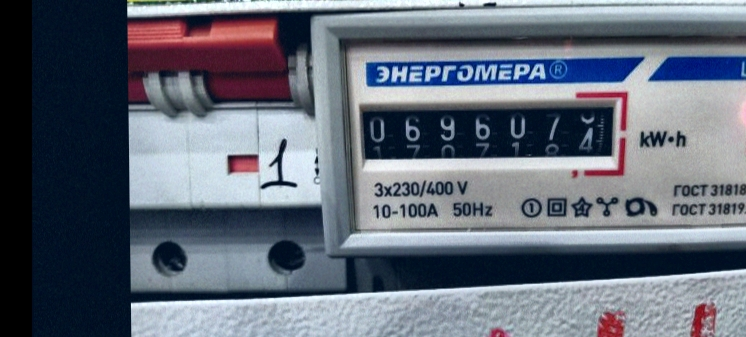0: (366, 113, 387, 144), (508, 111, 527, 140)
4: (575, 125, 595, 154)
6: (472, 111, 492, 142), (402, 113, 421, 142)
7: (543, 109, 561, 140)
9: (437, 113, 457, 142)
screen: (348, 84, 632, 180)
